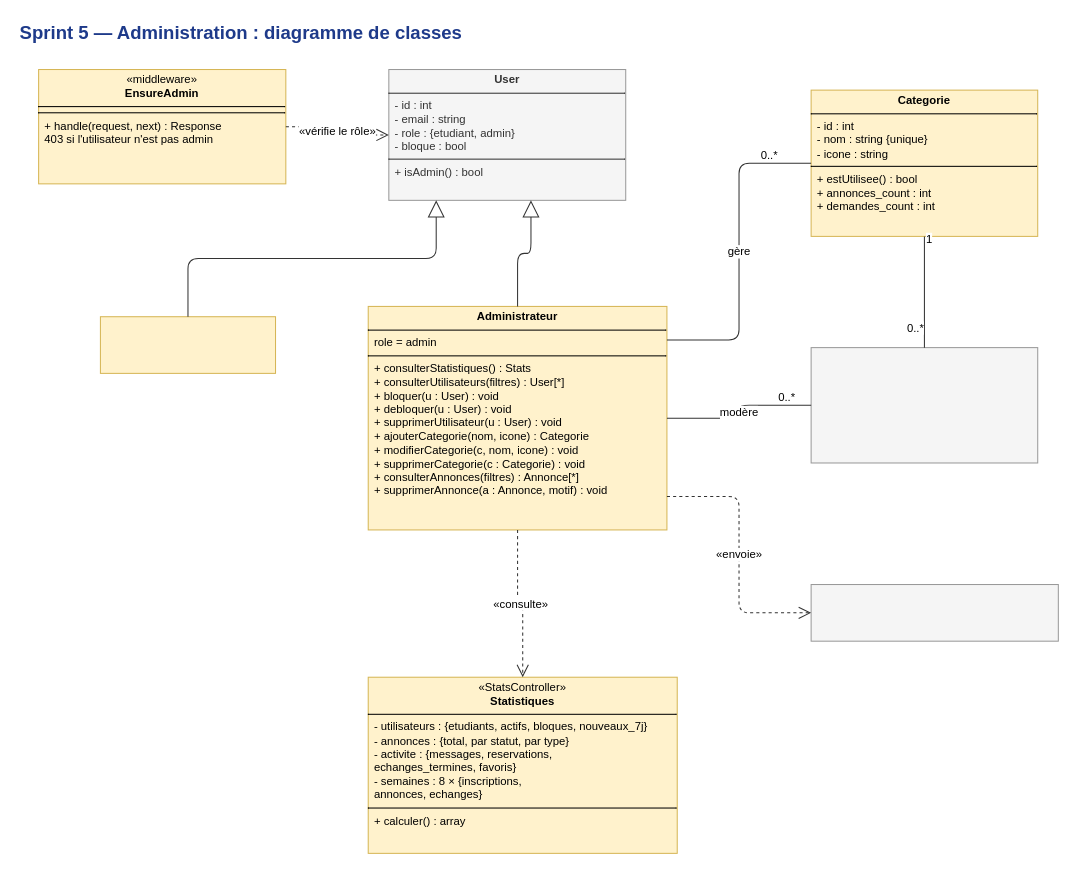
This 1076x871 diagram has some shape labels left out. Here are the shapes that lost their labels. From the top down, the box of each, then its label:
(99, 316, 276, 373): Etudiant role = etudiant
(810, 347, 1038, 463): Annonce - id : int - titre : string - statut : enum + supprimer() : void
(810, 583, 1058, 641): CampusNotification - type : compte_bloque | annonce_retiree
